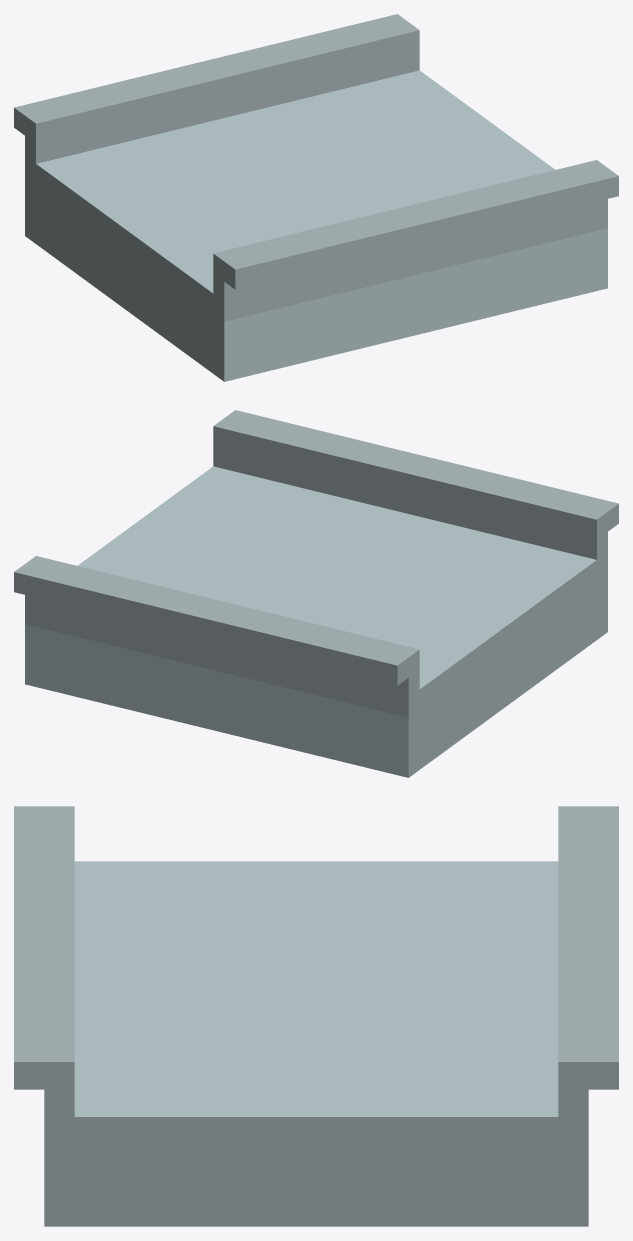
The model's file is bridge_center_stone.glb.
3 views of the same model, one above another, from view 1: azimuth 30°, elevation 25°; view 2: azimuth 150°, elevation 25°; view 3: azimuth 270°, elevation 25° (orthographic). The views are drawn at different scales.
Visible parts, largest first — view 1: bridge_center_stone; view 2: bridge_center_stone; view 3: bridge_center_stone.
Boxes of the visible parts, left/top/right/bottom form: bridge_center_stone: left=14, top=14, right=618, bottom=381; bridge_center_stone: left=14, top=410, right=618, bottom=777; bridge_center_stone: left=14, top=806, right=618, bottom=1226.
Bounding box in the file's own units: 1 × 0.3 × 1.
